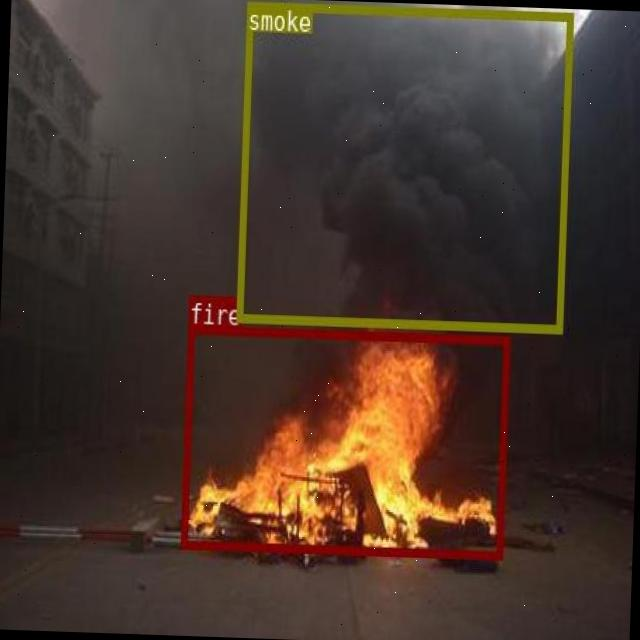fire: (179, 324, 508, 558)
smoke: (235, 1, 572, 332)
